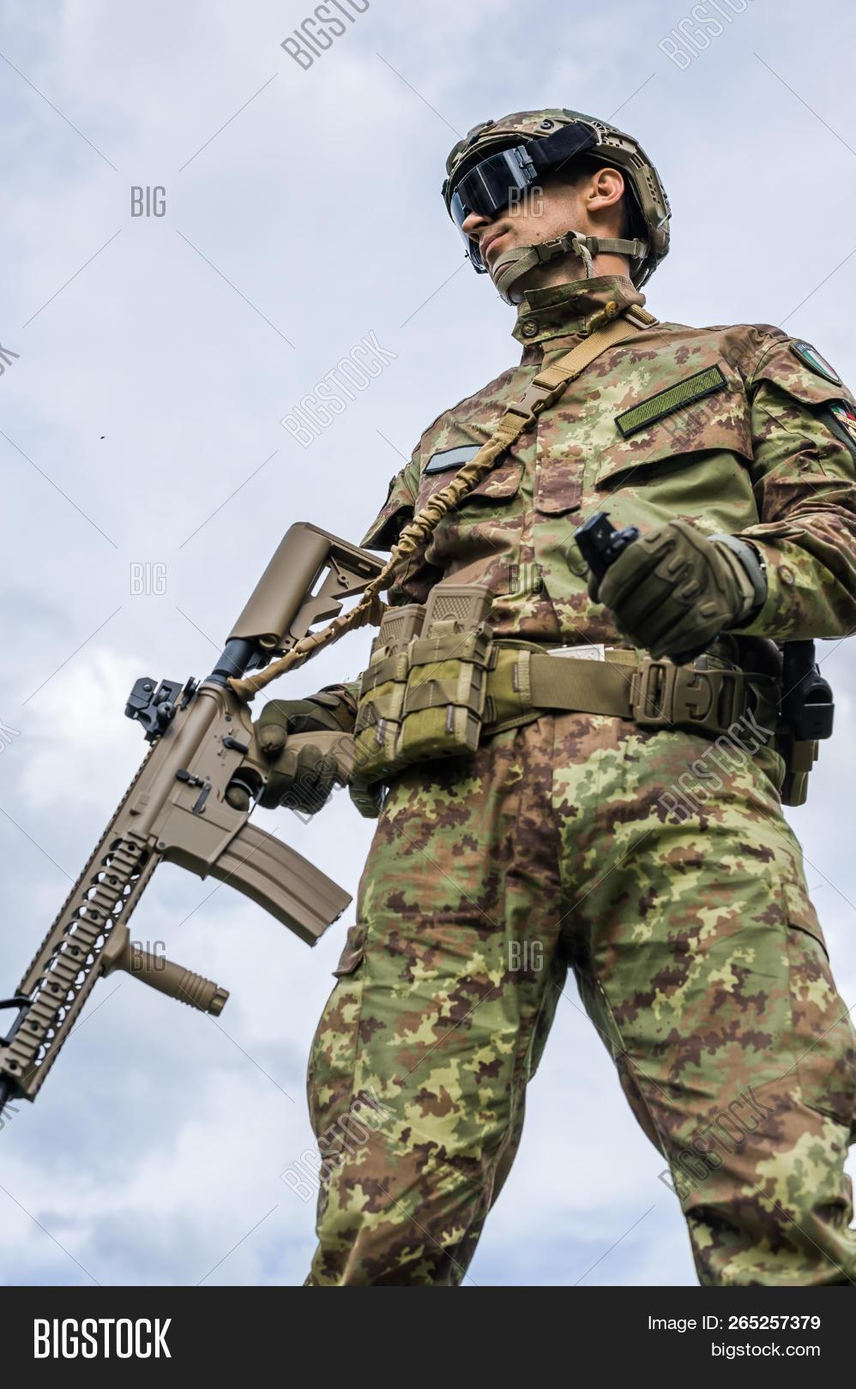Grenade: (572, 508, 713, 664)
Gun: (1, 519, 394, 1126)
